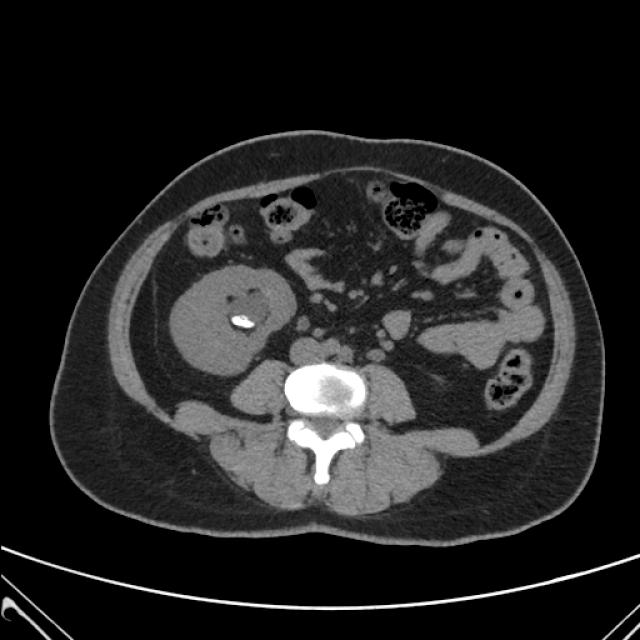kidney: (223, 282, 277, 368)
stone: (231, 315, 253, 326)
